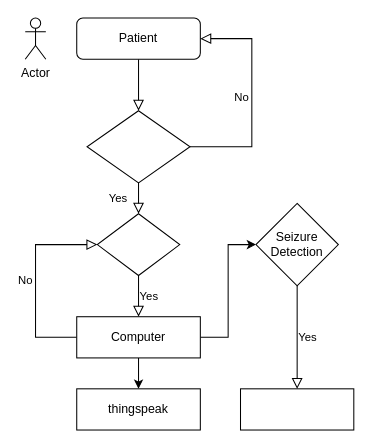
Some shapes in this 372 by 448 pixel diagram are drawn without their labels. The centre of each missing label's shape, as x and y in pixels:
"send message to Phone" belongs at pixel 296 409.
"Wifi" belongs at pixel 138 244.
"感測器" belongs at pixel 138 146.
